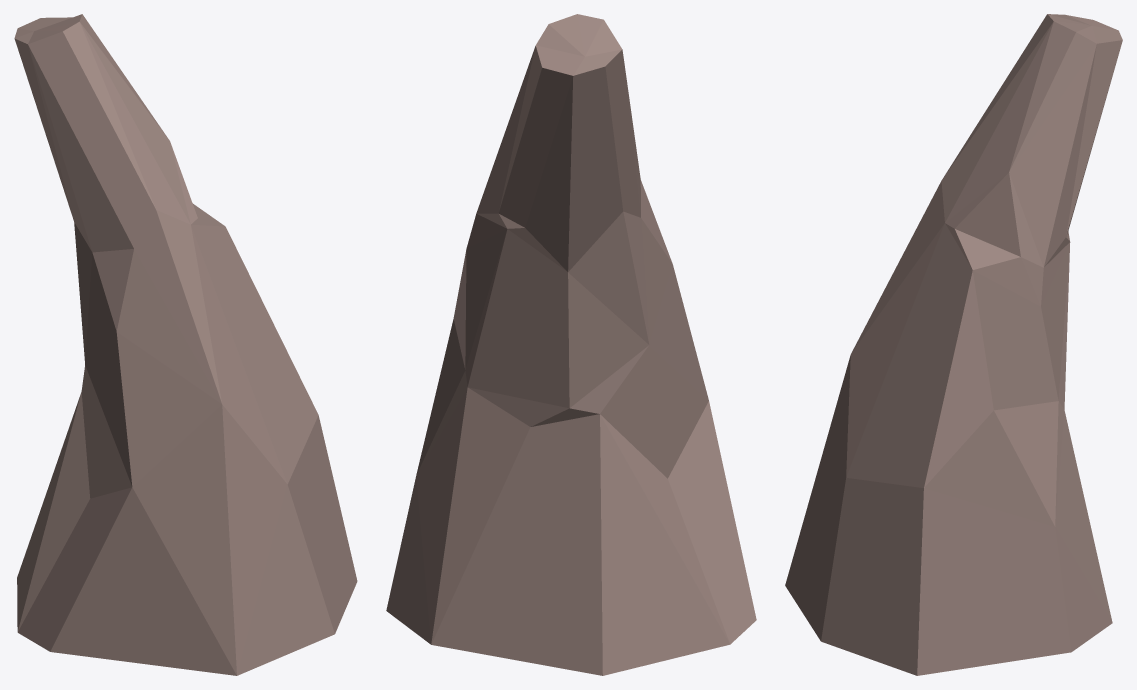
The model's file is Rock_20.fbx.
The picture shows the model from 3 angles, left to right: view 1: azimuth 30°, elevation 25°; view 2: azimuth 150°, elevation 25°; view 3: azimuth 270°, elevation 25°; orthographic projection. The views are drawn at different scales.
Parts seen in each view (by area): view 1: Rock_20; view 2: Rock_20; view 3: Rock_20.
Part boxes in pixels (x1,y1,x2,y2): Rock_20: (14, 14, 357, 675); Rock_20: (386, 14, 756, 675); Rock_20: (785, 14, 1122, 675).
Bounding box in the file's own units: 3.6 × 6.27 × 3.47.
